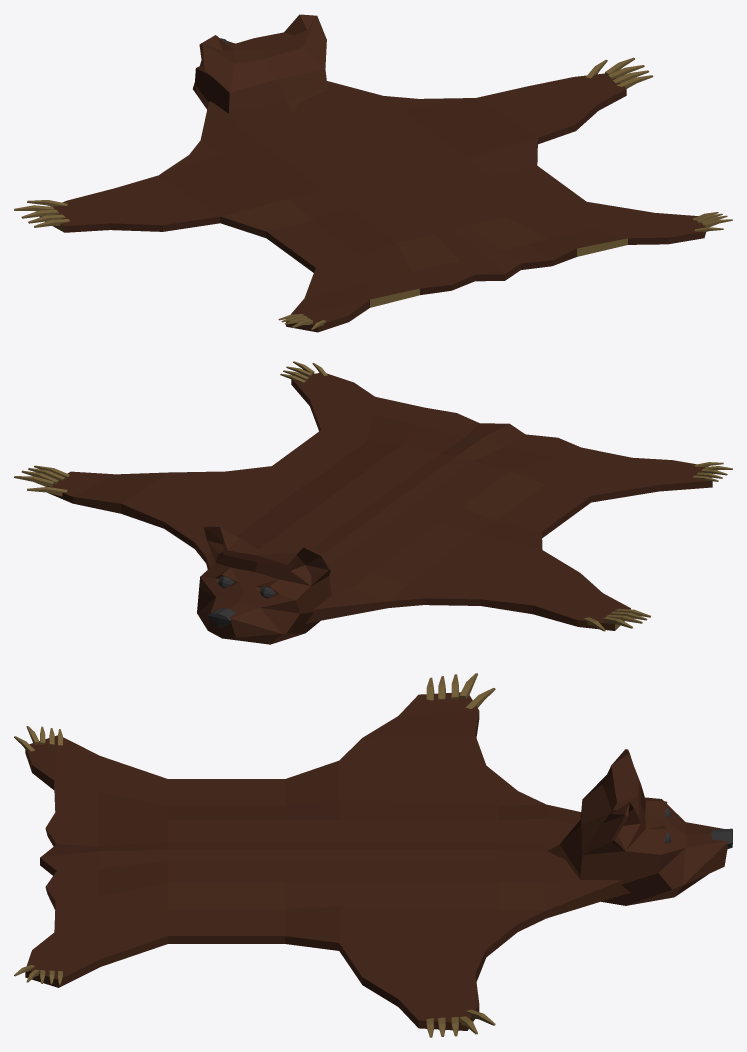
File: Bear_rug.fbx
3 views of the same model, one above another, from view 1: azimuth 30°, elevation 25°; view 2: azimuth 150°, elevation 25°; view 3: azimuth 270°, elevation 25° (orthographic). The views are drawn at different scales.
Parts seen in each view (by area): view 1: Cube, head; view 2: Cube, head; view 3: Cube, head.
Boxes of the visible parts, x1=… form: Cube: x1=39, y1=73, x2=705, y2=332; head: x1=193, y1=14, x2=327, y2=113; Cube: x1=47, y1=373, x2=712, y2=630; head: x1=197, y1=525, x2=331, y2=644; Cube: x1=25, y1=692, x2=630, y2=1030; head: x1=547, y1=749, x2=727, y2=905.
Bounding box in the file's own units: 463 × 67.63 × 390.
